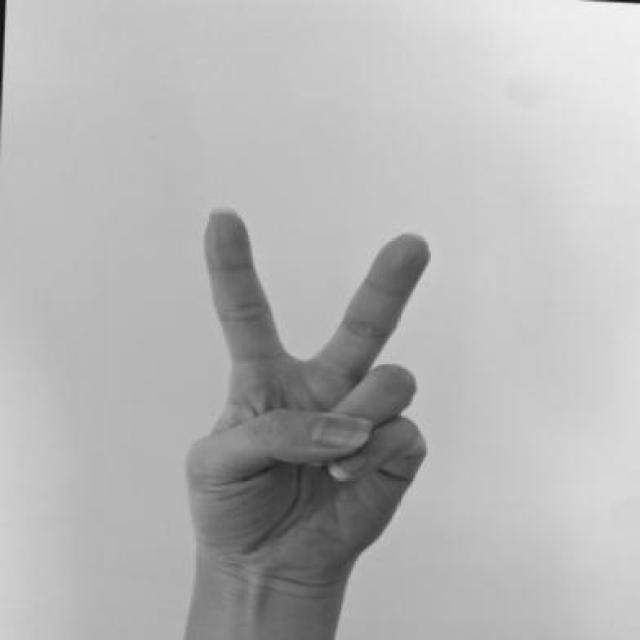V: (174, 201, 445, 601)
